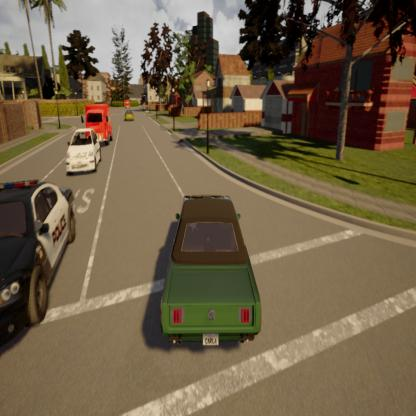Cars: (160, 192, 261, 349), (0, 178, 77, 343), (66, 128, 102, 176), (84, 101, 113, 147), (122, 111, 135, 122), (123, 98, 131, 111)
